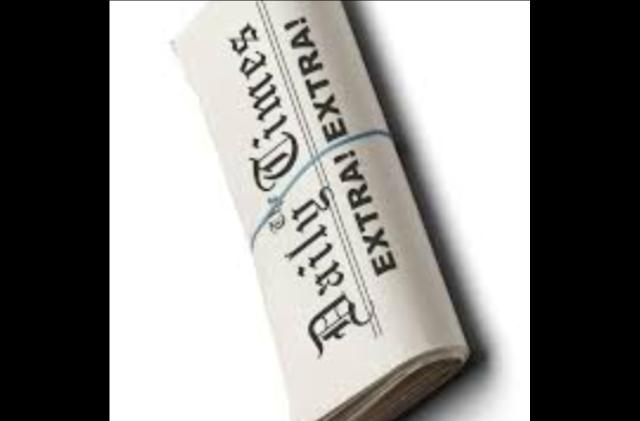cardboard paper: (176, 0, 465, 421)
